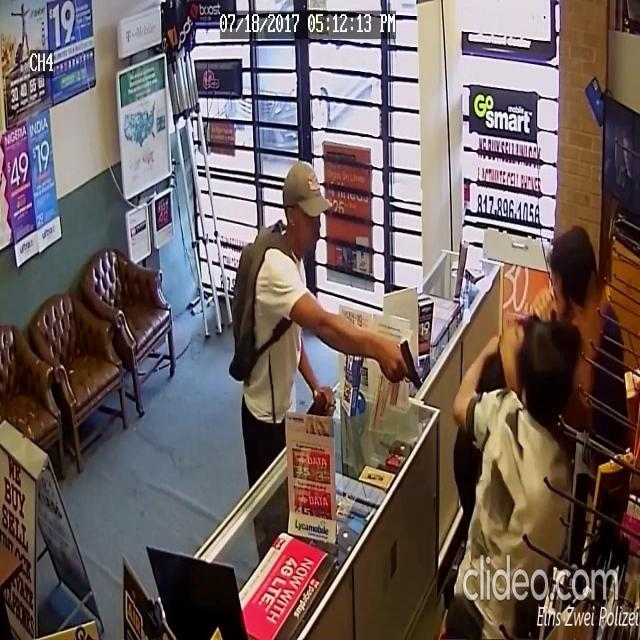pistol: (398, 338, 422, 394)
